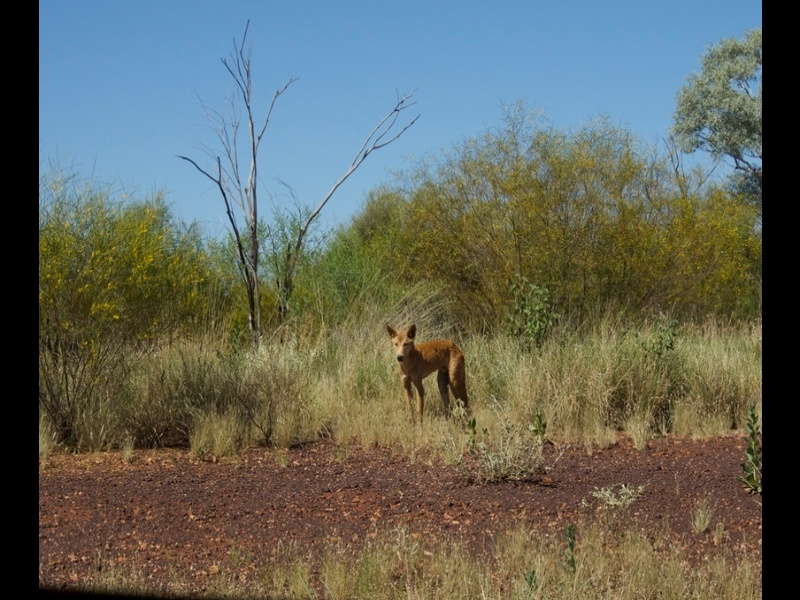dog: (383, 322, 474, 432)
